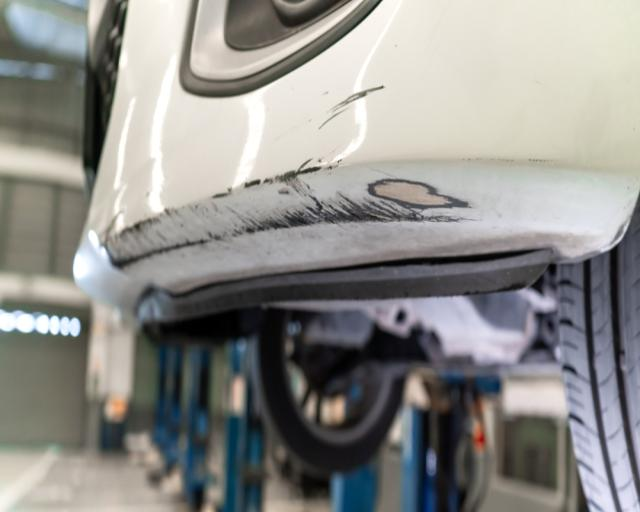scratch: (93, 80, 488, 275)
